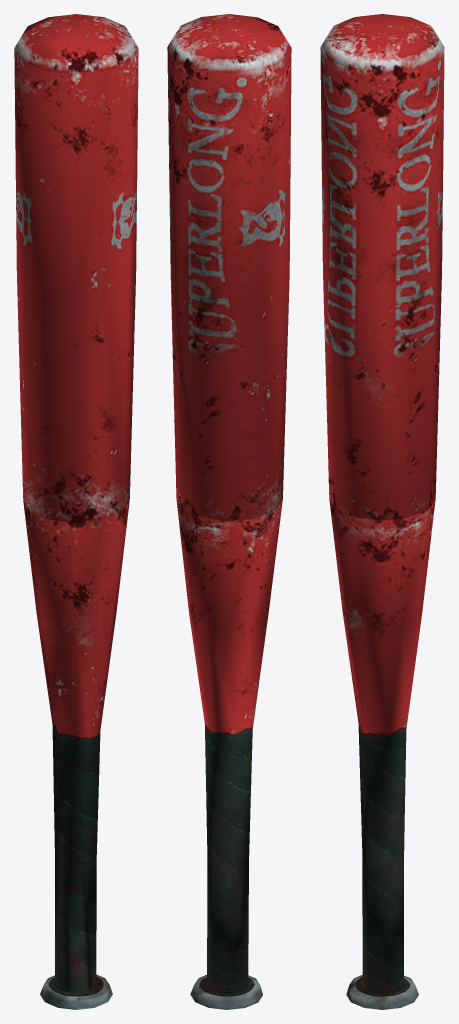
The model's file is Melee_Prop_bqg_lod_LOD_(000871).glb.
The picture shows the model from 3 angles, left to right: view 1: azimuth 90°, elevation 25°; view 2: azimuth 210°, elevation 25°; view 3: azimuth 270°, elevation 25°; orthographic projection.
Visible parts, largest first — view 1: bqg_lod; view 2: bqg_lod; view 3: bqg_lod.
Boxes of the visible parts, x1=… form: bqg_lod: x1=14, y1=14, x2=138, y2=1009; bqg_lod: x1=167, y1=14, x2=291, y2=1009; bqg_lod: x1=320, y1=14, x2=444, y2=1009.
Size of the model in its own units: 0.1269 by 1.09 by 0.1269.
Materials: 1 (1 with a texture image).
